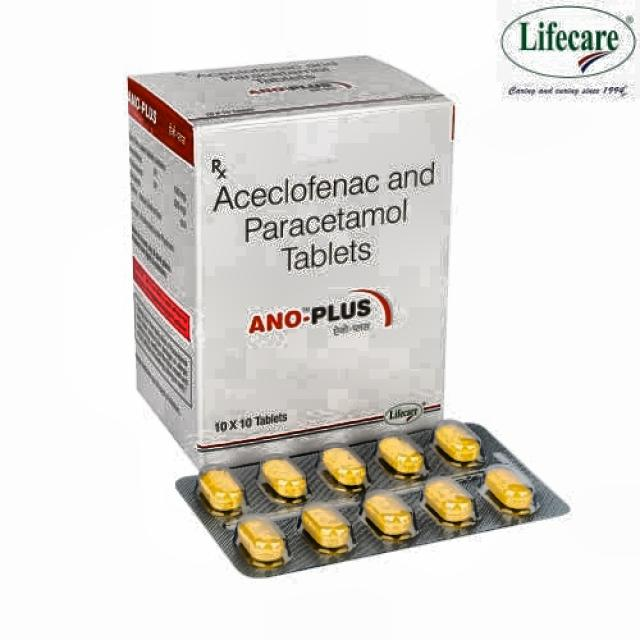Paracetamol: (206, 173, 435, 308)
